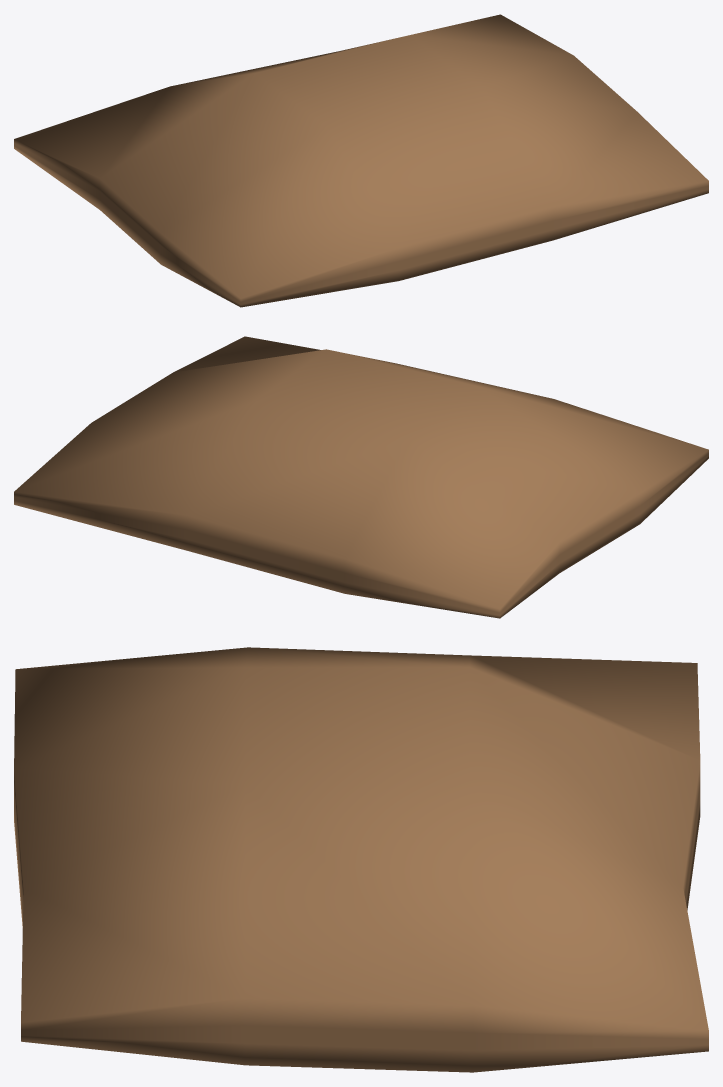
Rendered from Pillow_1.fbx.
3 renders of one model, top to bottom at view 1: azimuth 30°, elevation 25°; view 2: azimuth 150°, elevation 25°; view 3: azimuth 270°, elevation 25°, orthographic. The views are drawn at different scales.
Parts seen in each view (by area): view 1: Pillow_1; view 2: Pillow_1; view 3: Pillow_1.
Boxes of the visible parts, x1,y1,x2,y2 form: Pillow_1: (14, 14, 708, 307); Pillow_1: (14, 336, 708, 618); Pillow_1: (14, 647, 708, 1072).
Bounding box in the file's own units: 72.38 × 19.48 × 57.23.
